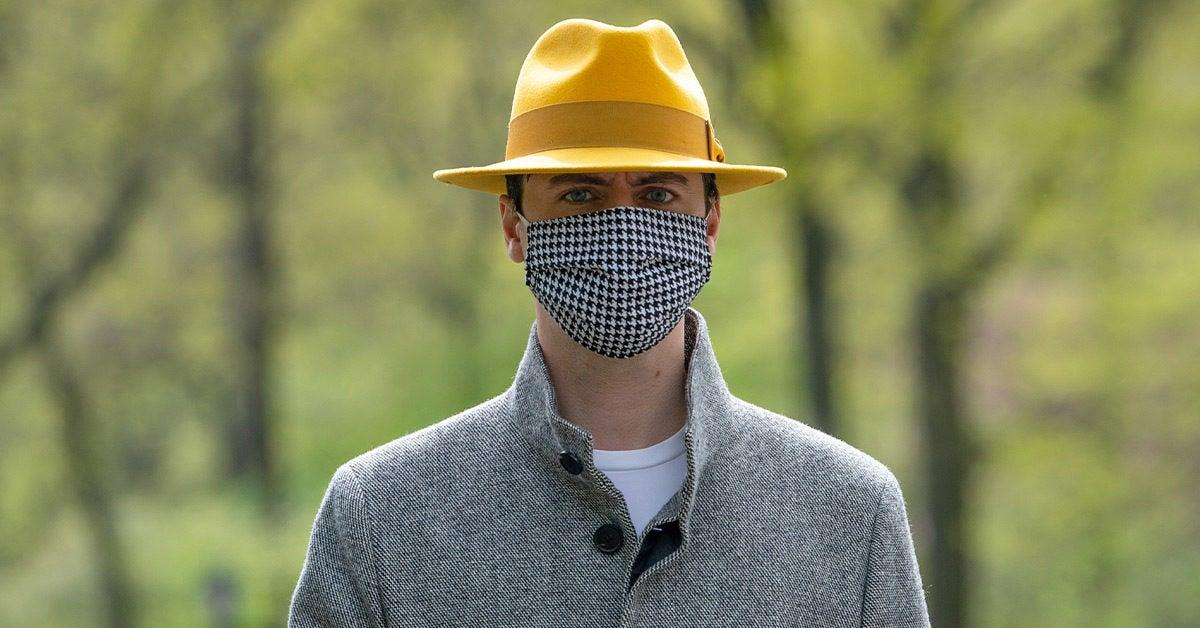cap: (417, 3, 820, 202)
mask: (525, 202, 725, 360)
